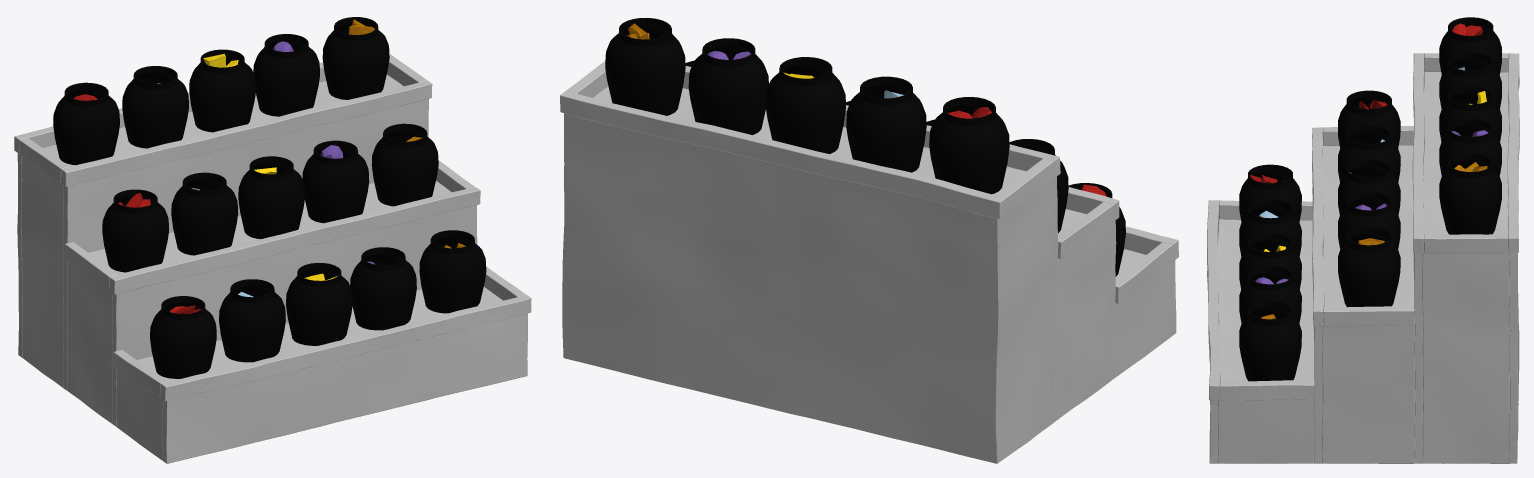
Rendered from vasi.fbx.
3 renders of one model, left to right at view 1: azimuth 30°, elevation 25°; view 2: azimuth 150°, elevation 25°; view 3: azimuth 270°, elevation 25°, orthographic. The views are drawn at different scales.
Parts seen in each view (by area): view 1: AM216_24_stand_01, vasi, AM216_24_jar_content_01_95_1, AM216_24_jar_content_04__57_1; view 2: AM216_24_stand_01, vasi; view 3: AM216_24_stand_01, vasi, AM216_24_jar_content_01_95_1, AM216_24_jar_content_06__00_1, AM216_24_jar_content_05__38_1.
Part boxes in pixels (x1,y1,x2,y2): AM216_24_stand_01: [14, 54, 531, 463]; vasi: [53, 17, 486, 378]; AM216_24_jar_content_01_95_1: [73, 94, 200, 313]; AM216_24_jar_content_04__57_1: [203, 53, 337, 280]; AM216_24_stand_01: [560, 61, 1178, 463]; vasi: [605, 18, 1125, 276]; AM216_24_stand_01: [1207, 53, 1519, 463]; vasi: [1239, 17, 1501, 381]; AM216_24_jar_content_01_95_1: [1250, 23, 1483, 183]; AM216_24_jar_content_06__00_1: [1261, 162, 1487, 319]; AM216_24_jar_content_05__38_1: [1255, 130, 1487, 284].
Bounding box in the file's own units: 105 × 74.24 × 74.81.
